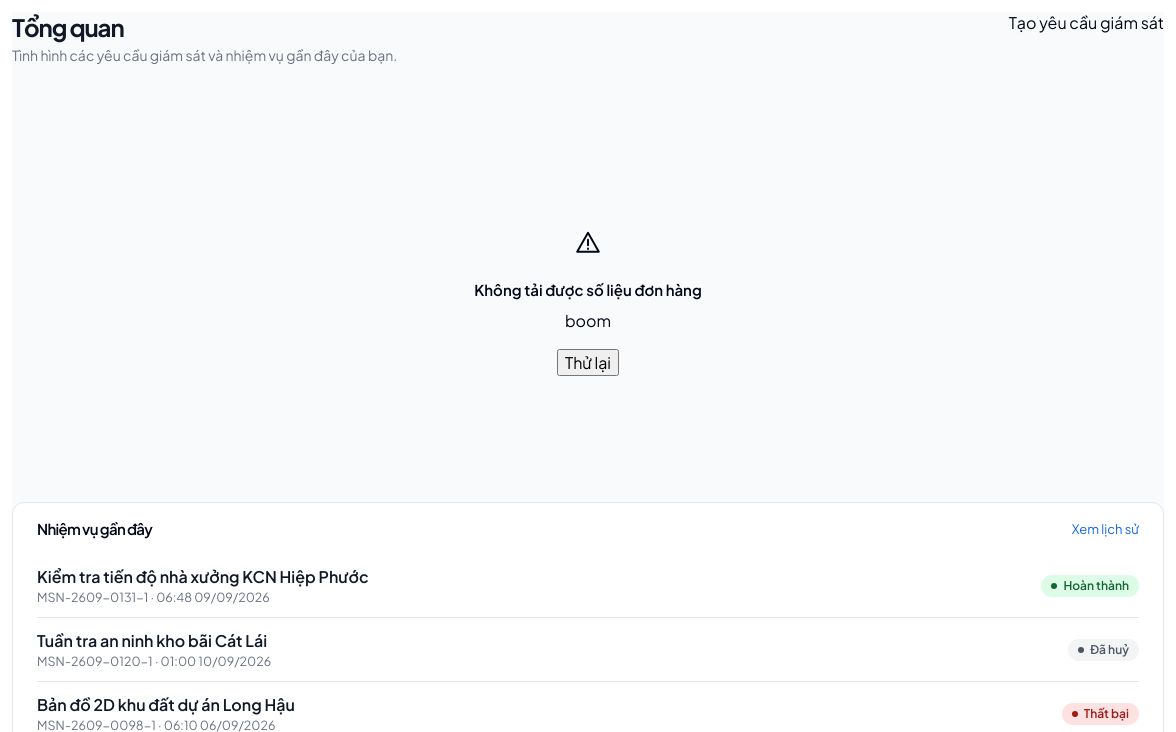
Scenario: DashboardPage › shows an order error with retry and recovers
Expected: the text "Không tải được số liệu đơn hàng" is shown, [474,280,702,299]
Click the button "Thử lại". click: (588, 362)
box: [557,349,619,376]
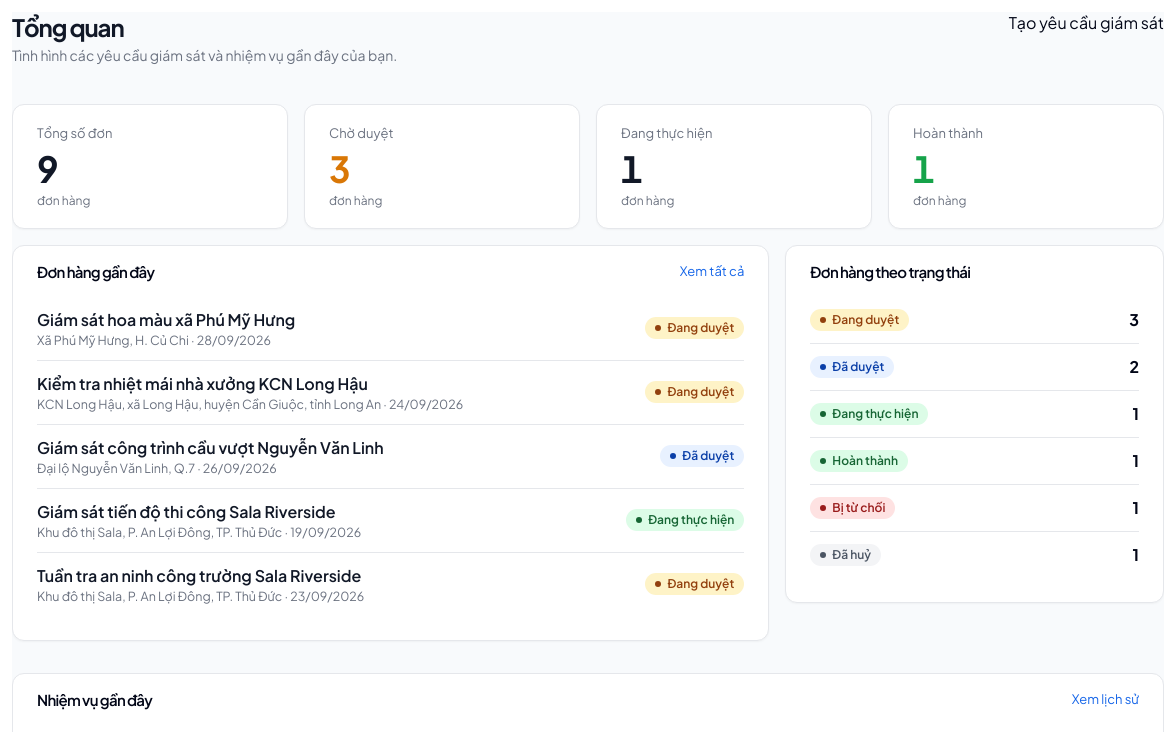
Now the text "Tổng số đơn" is shown, box [37,125,112,141]
